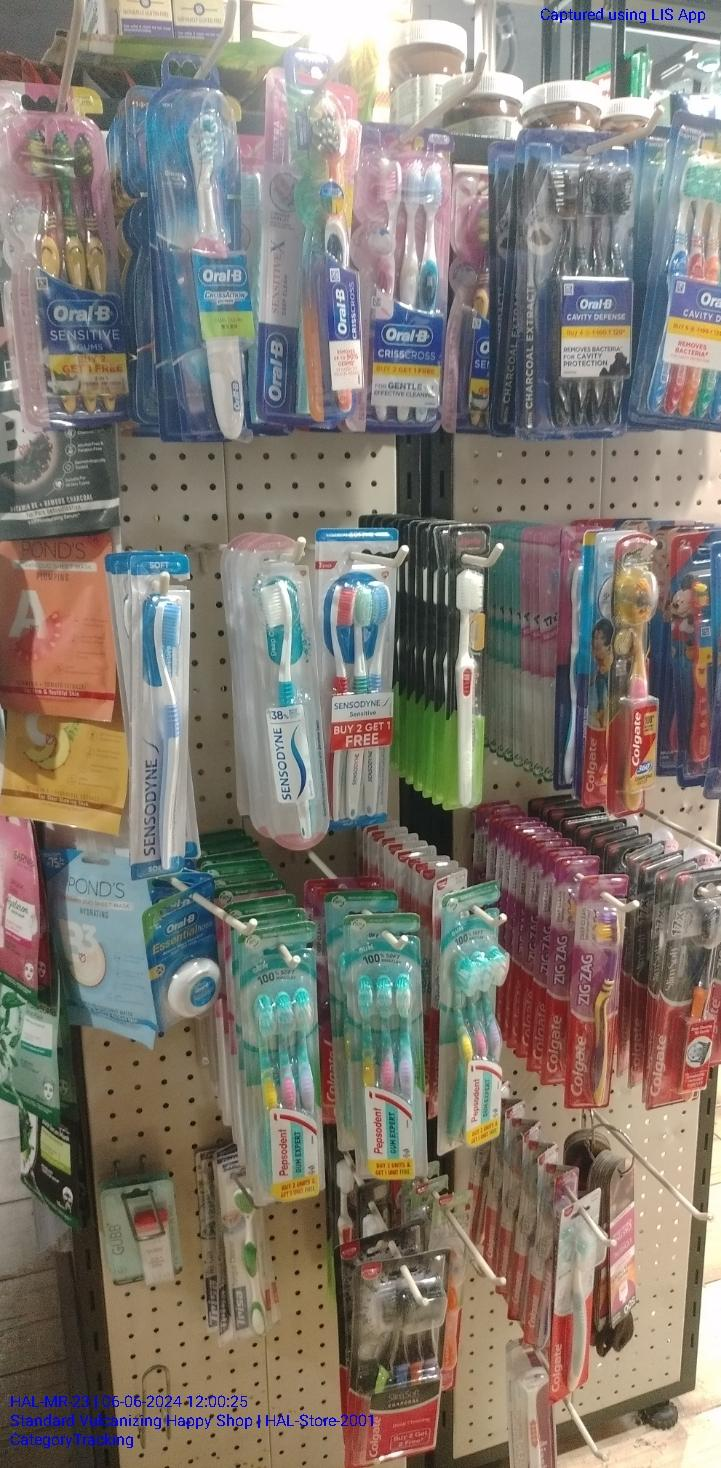11: (234, 921, 318, 1198), (342, 914, 424, 1180), (439, 888, 502, 1158)
9: (290, 48, 359, 422)
soap: (655, 871, 721, 1104)
